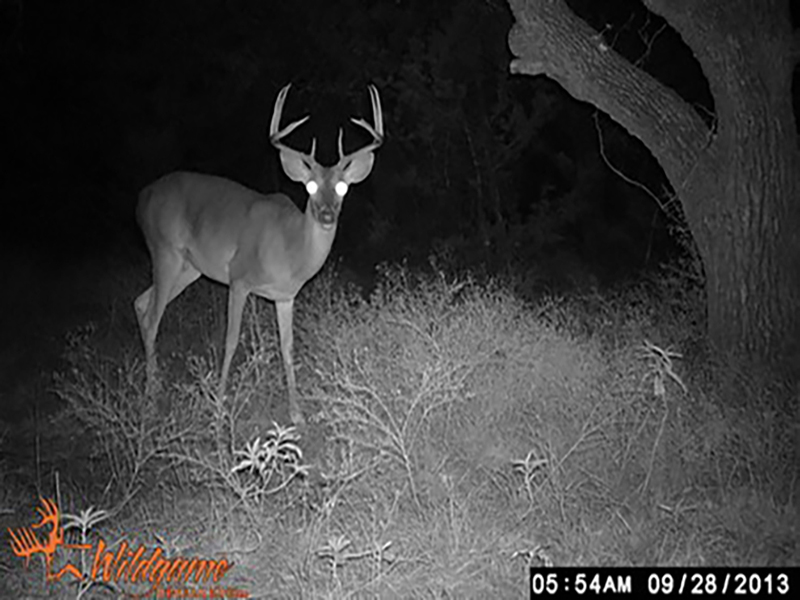cervo: (125, 83, 389, 422)
